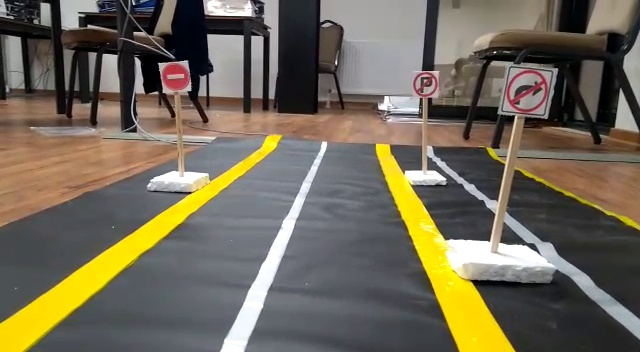girisi_olmayan_yol: (158, 60, 192, 92)
park_yapilmaz: (412, 70, 438, 97)
saga_donulmez: (502, 64, 552, 116)
